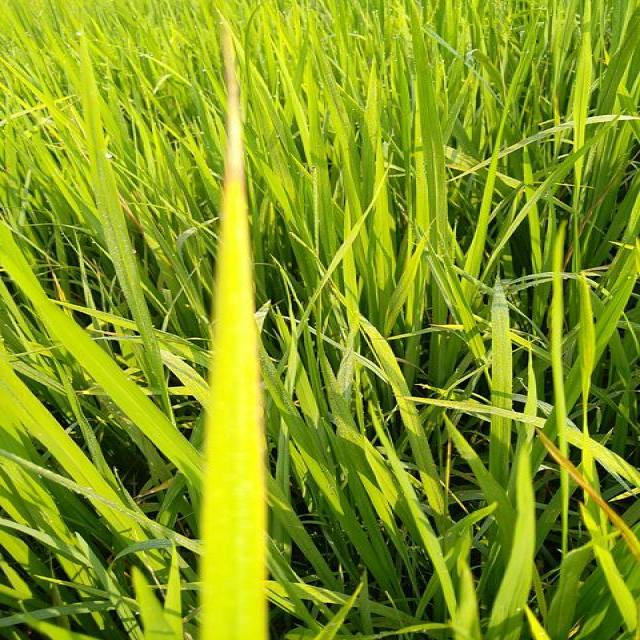Leaf Blight: (535, 427, 639, 564)
Leaf Streak: (219, 34, 249, 334)
